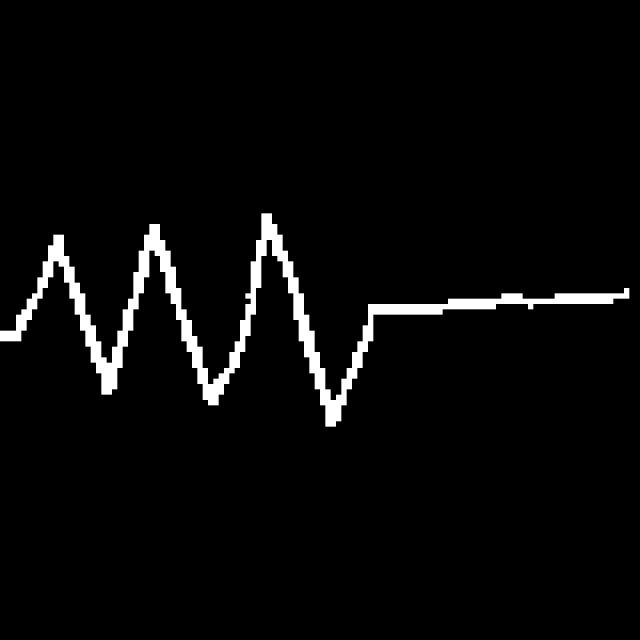resistor: (14, 197, 380, 441)
